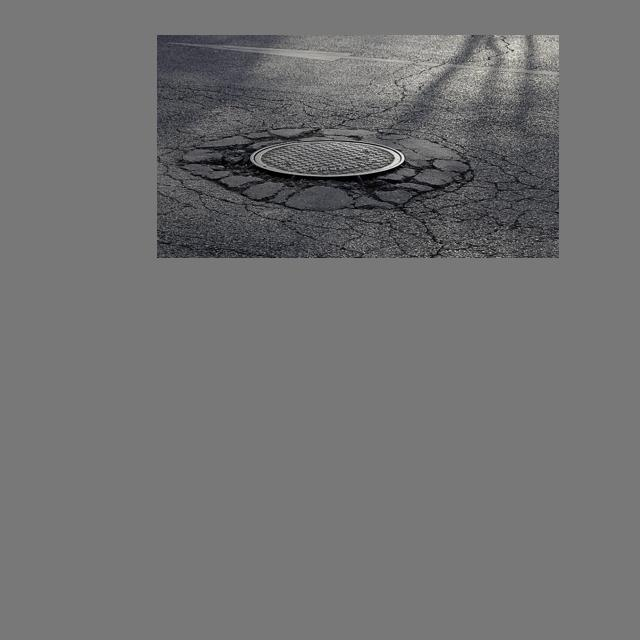circle: (195, 117, 476, 220)
